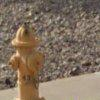Hydrant: (3, 14, 50, 100)
